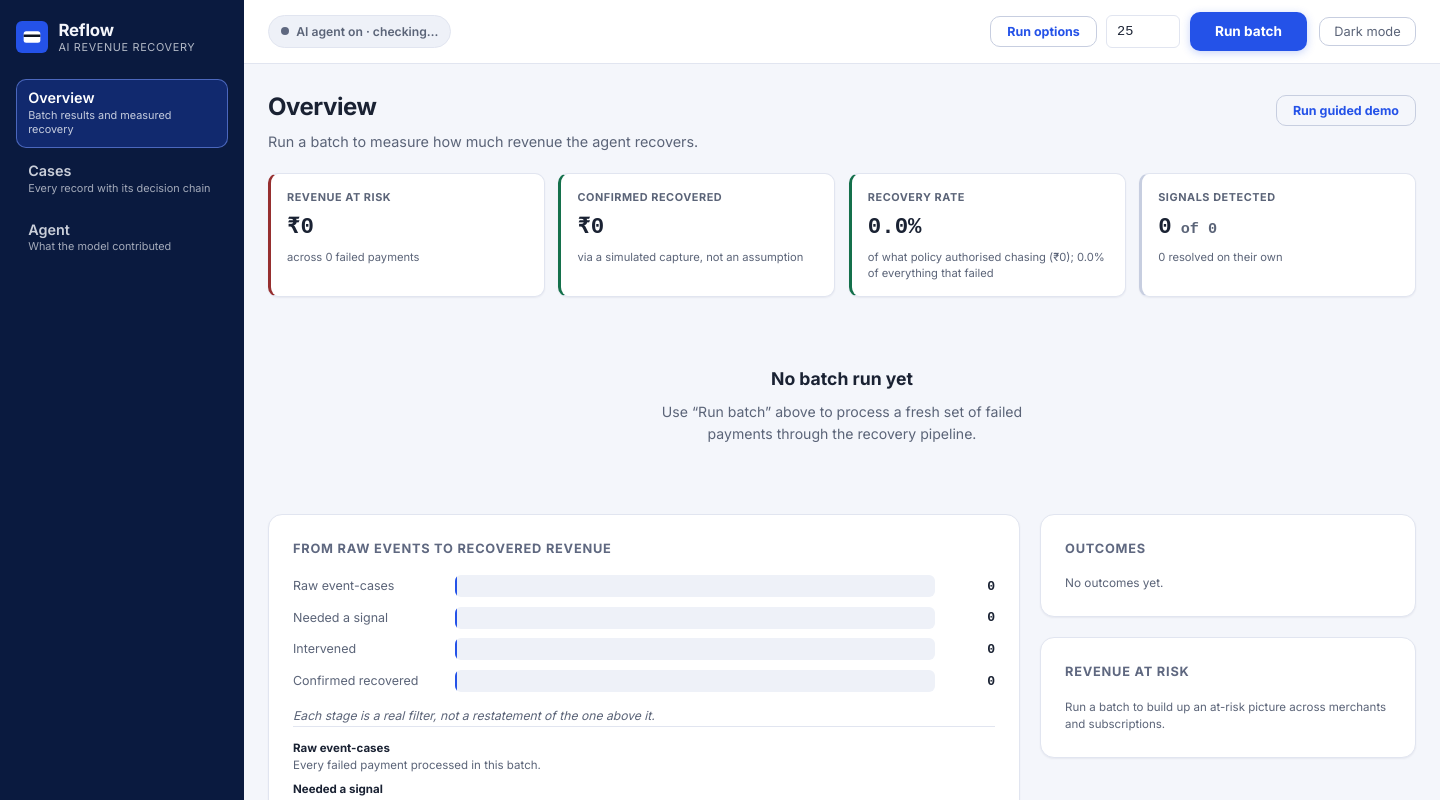
Test: App › surfaces a batch failure without crashing
What coordinates should you click on to do the following:
click the button with test id "run-batch-btn"
I would click on:
 (1248, 31)
Its box is [1190,12,1307,51].
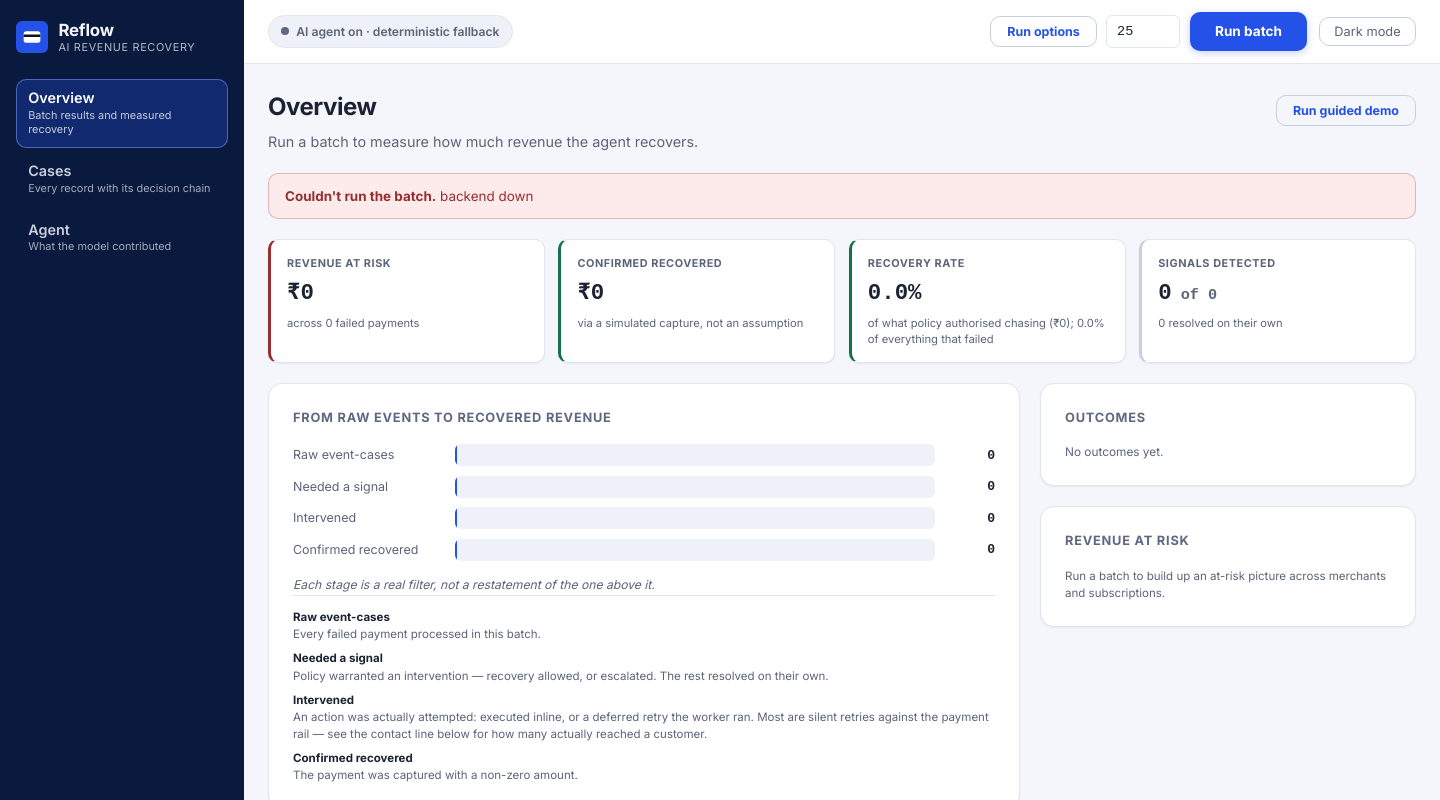
Expected: the message shows "backend down", [440,188,533,204]
